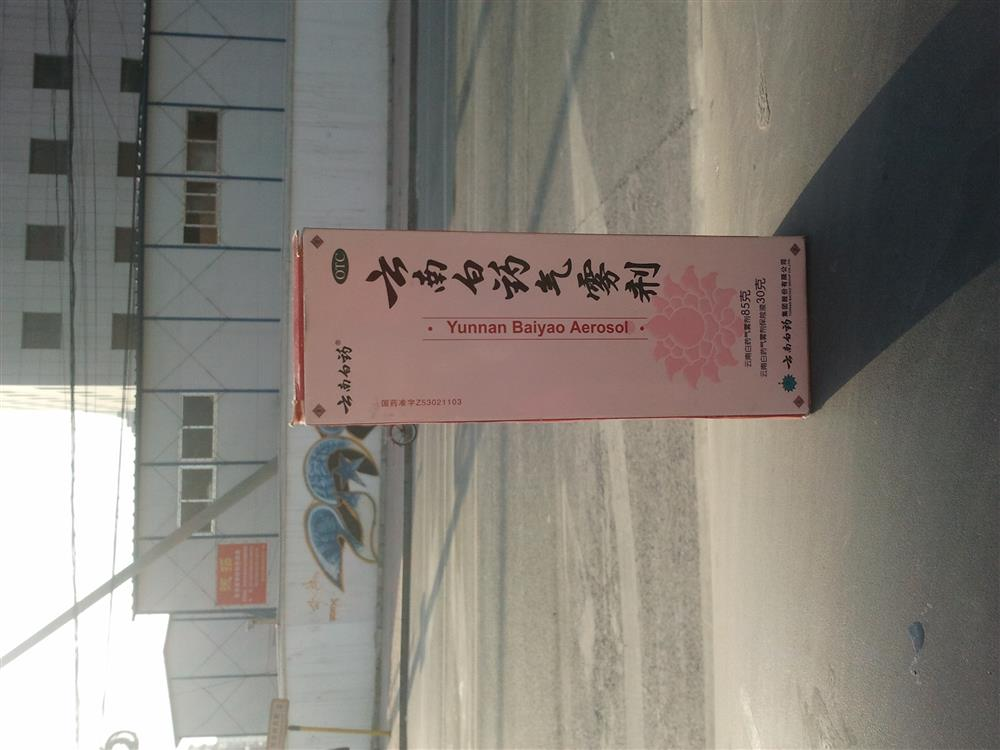Yunnan_Baiyao_Aerosol: (277, 215, 838, 445)
